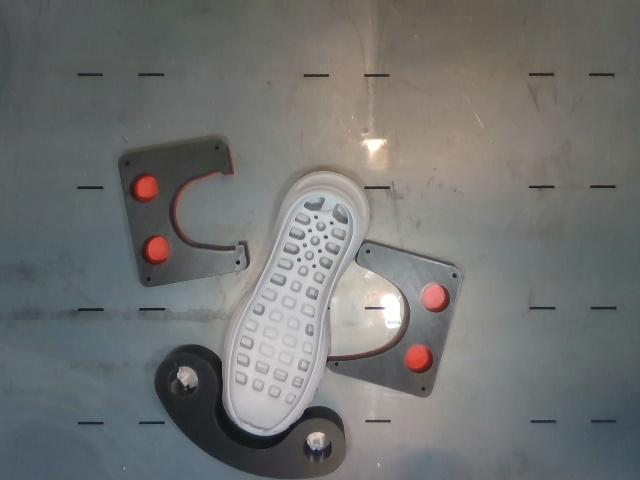shoes: (230, 193, 354, 431)
